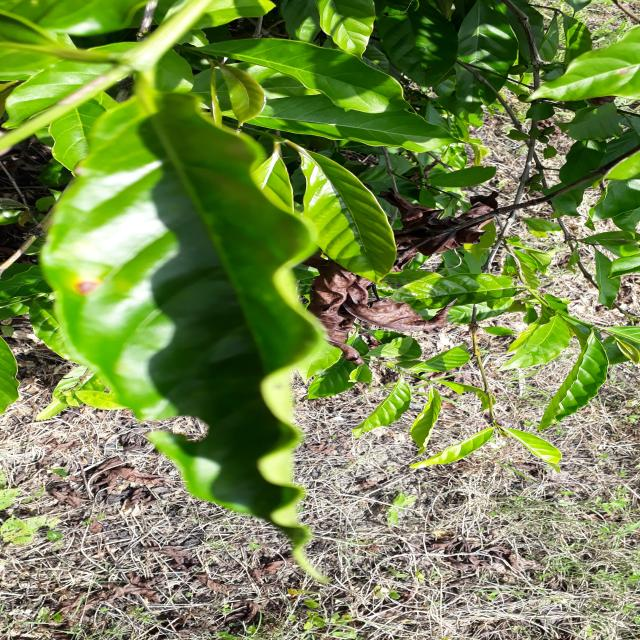Enfermedad-Roya: (38, 93, 394, 563)
